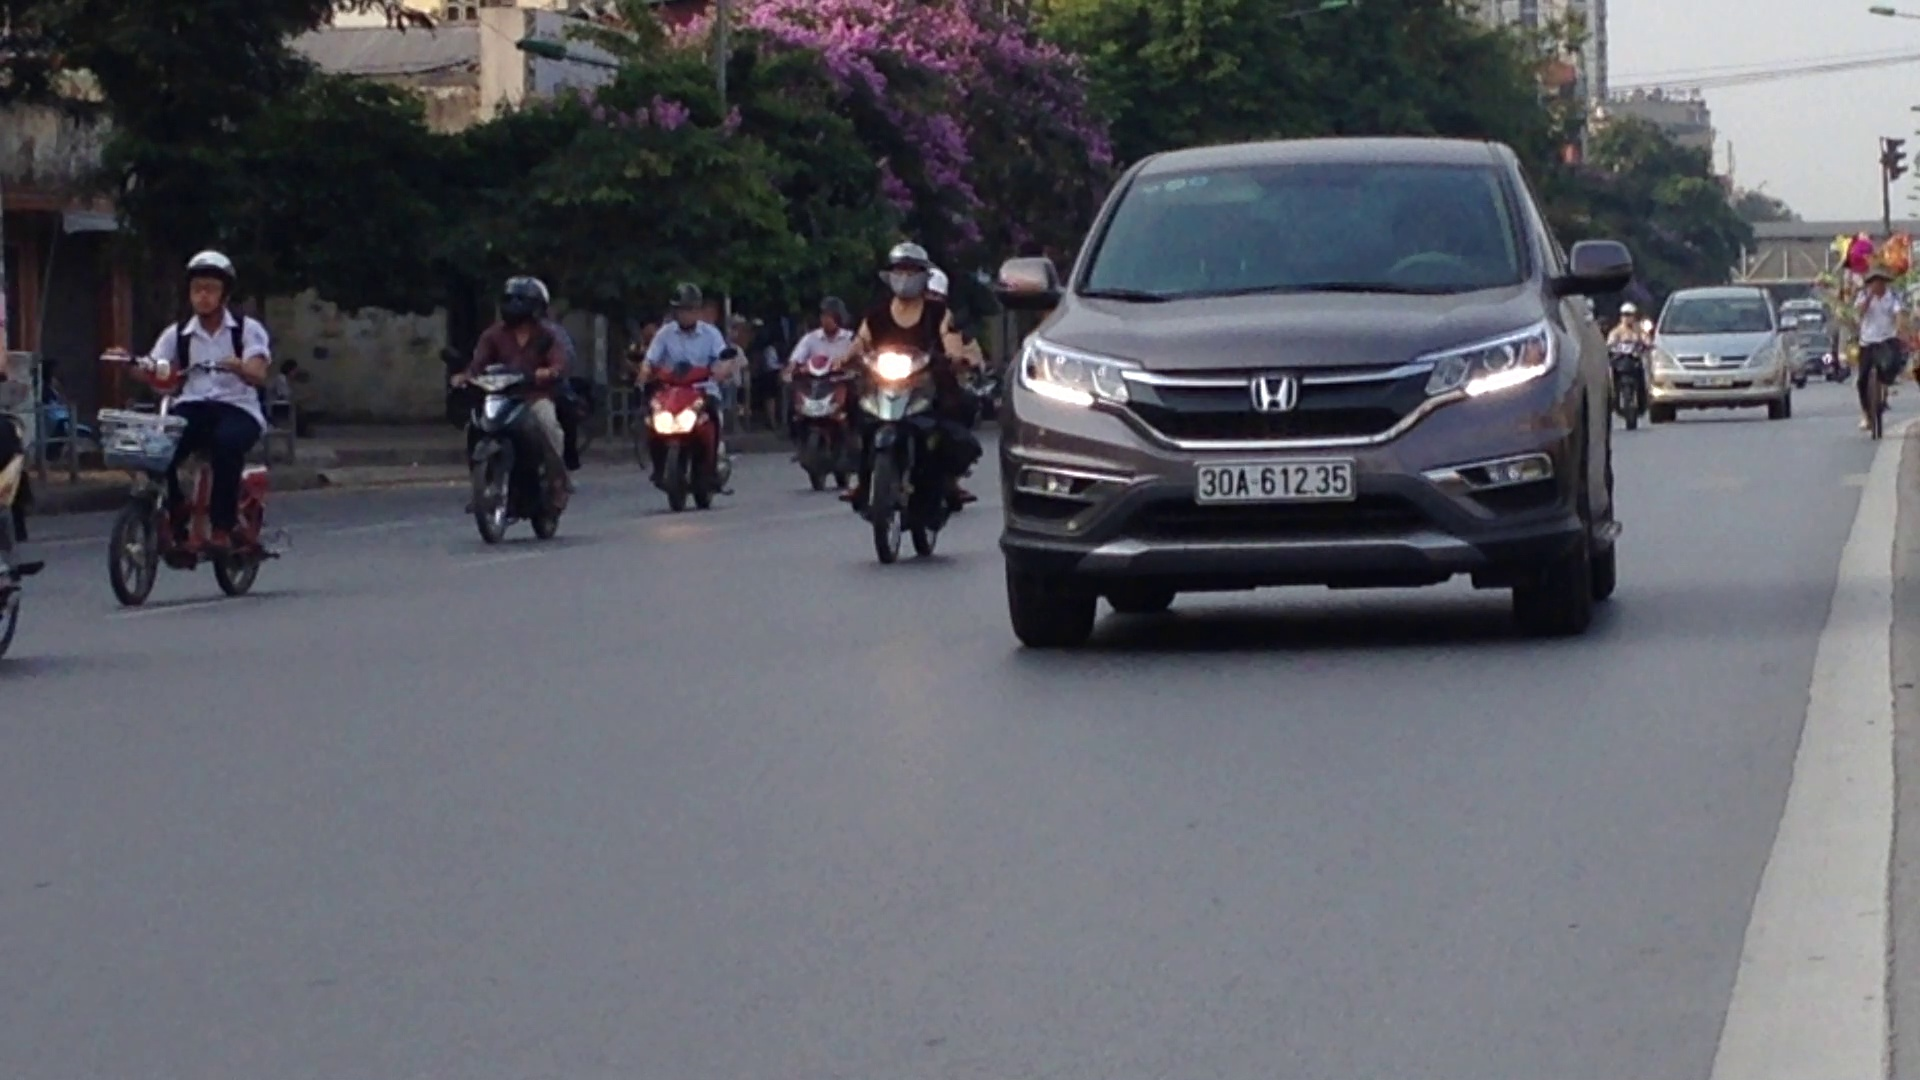vehicle-plate: (1191, 452, 1357, 502)
